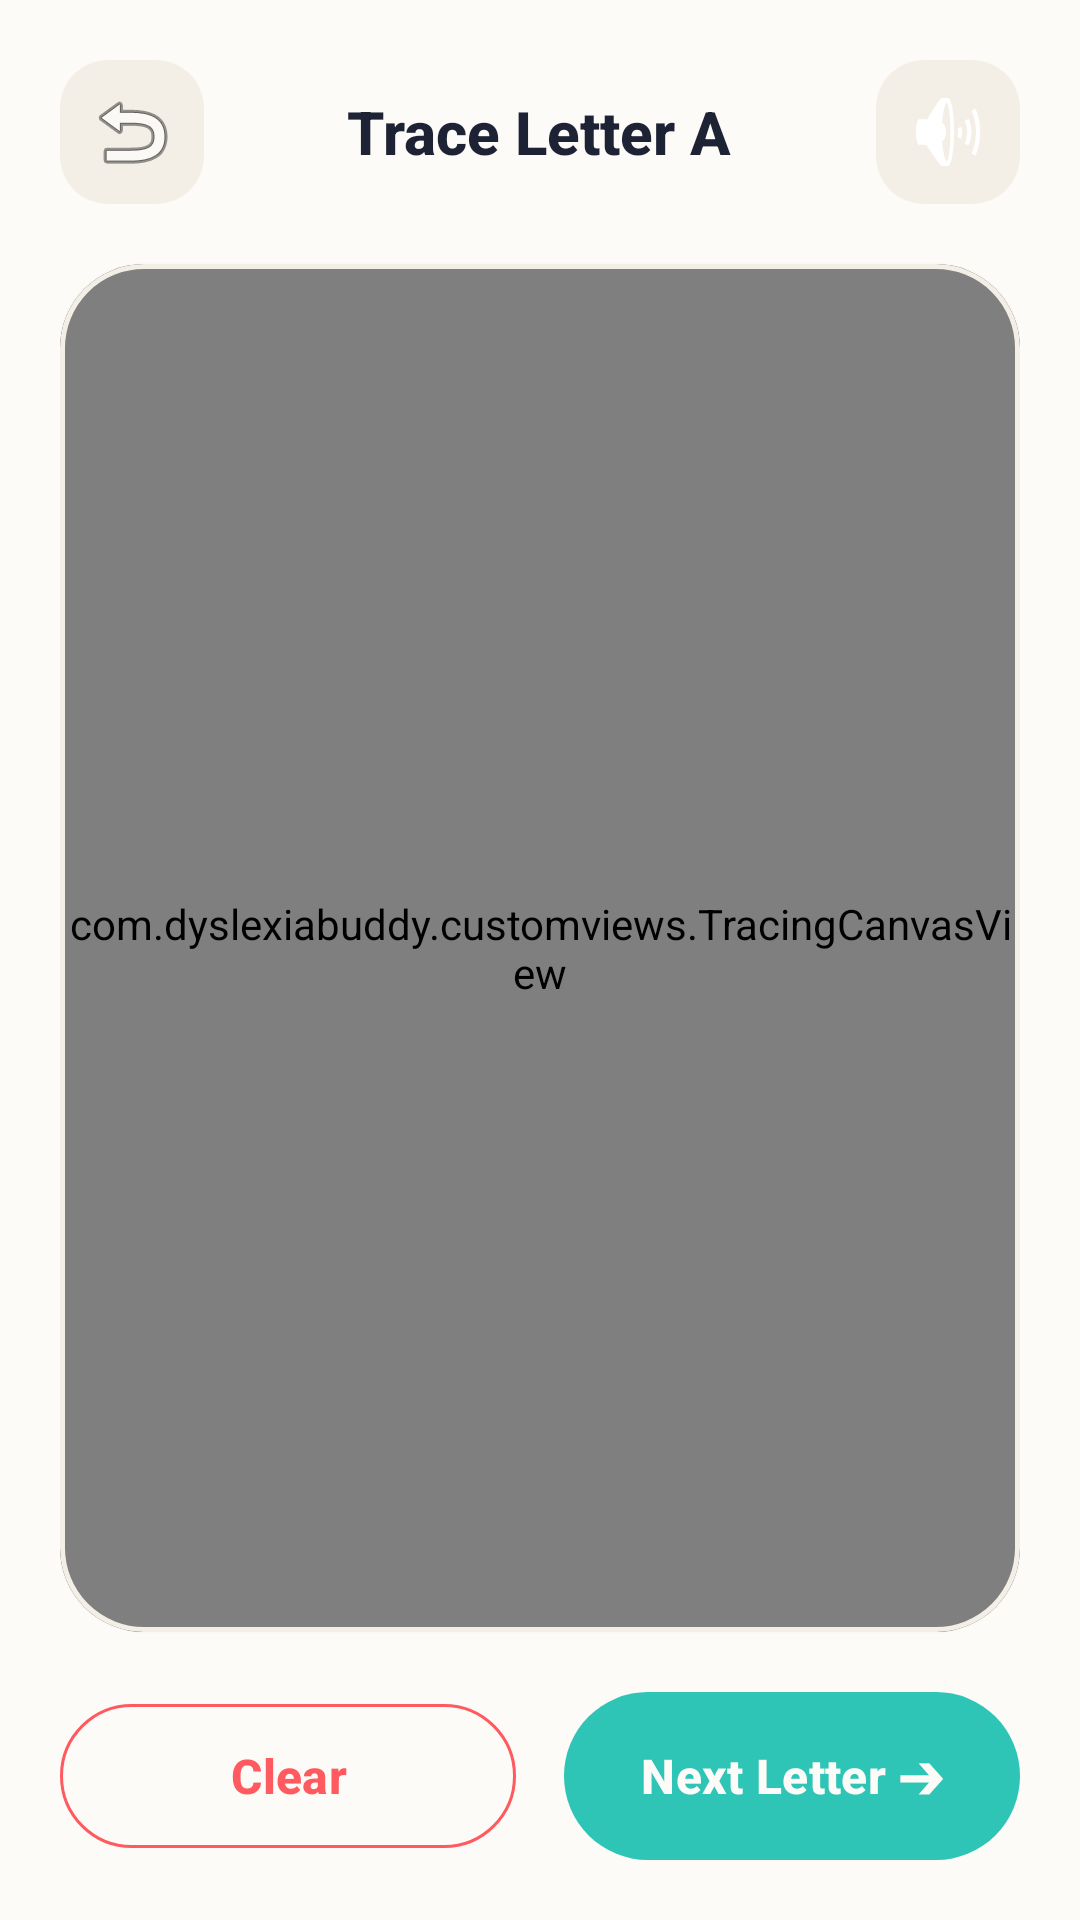

Screen size 1080px x 1920px. Icon name, then its box in pixels as (x1, y1, x2, y2):
Back: (60, 60, 204, 204)
